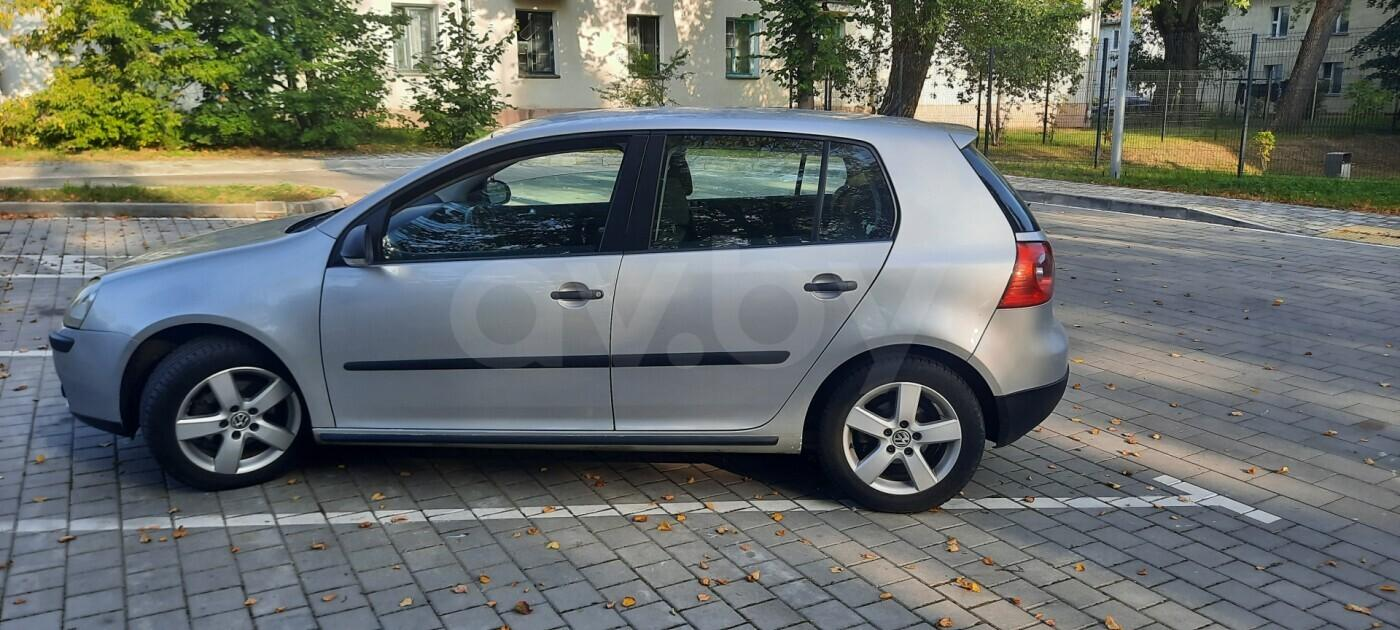Golf_2003-2009: (40, 113, 1069, 524)
